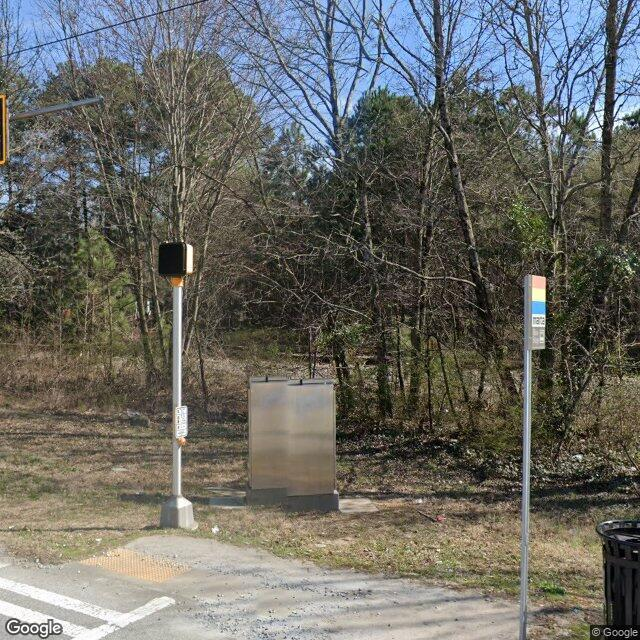trash_can: (593, 516, 640, 640)
